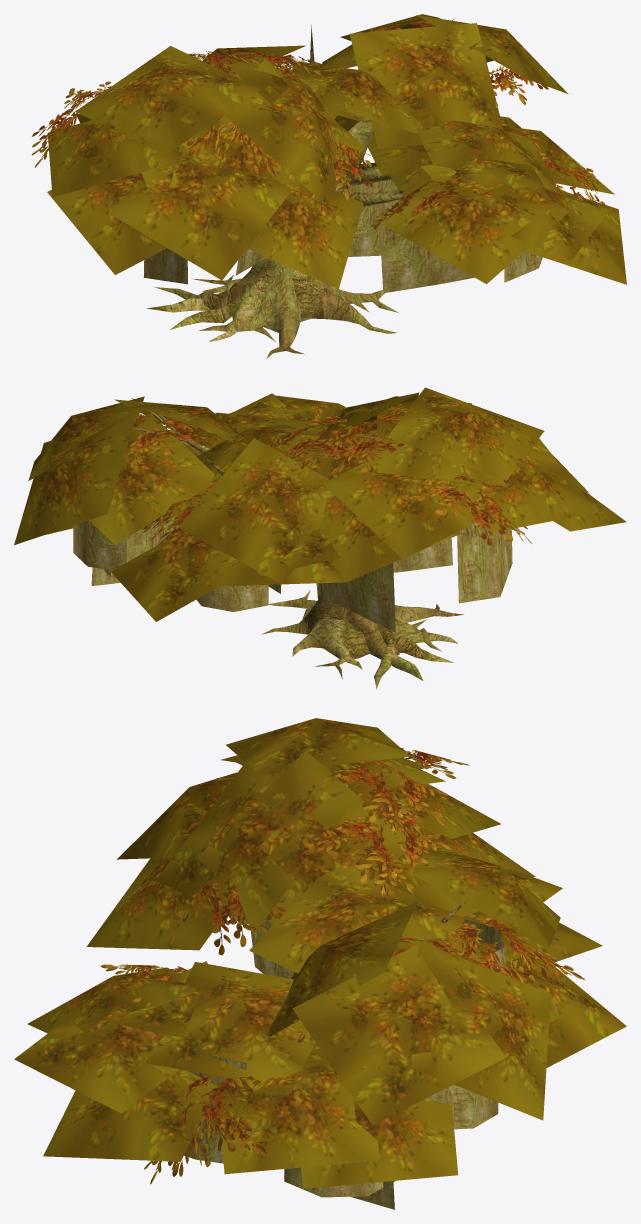
The model's file is environment_Tree_dashu_003_a.FBX.
The picture shows the model from 3 angles, top to bottom: view 1: azimuth 30°, elevation 25°; view 2: azimuth 150°, elevation 25°; view 3: azimuth 270°, elevation 25°; orthographic projection. The views are drawn at different scales.
Visible parts, largest first — view 1: environment_Tree_dashu_003_b, environment_Tree_dashu_003_a, environment_Tree_dashu_003_c, environment_Tree_dashu_003_d; view 2: environment_Tree_dashu_003_b, environment_Tree_dashu_003_d, environment_Tree_dashu_003_c, environment_Tree_dashu_003_a; view 3: environment_Tree_dashu_003_b, environment_Tree_dashu_003_c, environment_Tree_dashu_003_d.
Part boxes in pixels (bbox=[...]): environment_Tree_dashu_003_b: bbox=[47, 14, 626, 288]; environment_Tree_dashu_003_a: bbox=[146, 18, 482, 358]; environment_Tree_dashu_003_c: bbox=[32, 20, 605, 232]; environment_Tree_dashu_003_d: bbox=[143, 68, 542, 293]; environment_Tree_dashu_003_b: bbox=[14, 387, 626, 621]; environment_Tree_dashu_003_d: bbox=[73, 501, 512, 632]; environment_Tree_dashu_003_c: bbox=[127, 404, 531, 565]; environment_Tree_dashu_003_a: bbox=[101, 398, 463, 688]; environment_Tree_dashu_003_b: bbox=[14, 718, 626, 1188]; environment_Tree_dashu_003_c: bbox=[100, 748, 585, 1184]; environment_Tree_dashu_003_d: bbox=[158, 919, 505, 1209].
Bounding box in the file's own units: 1312 × 599 × 1085.
Materials: 4 (4 with a texture image).
